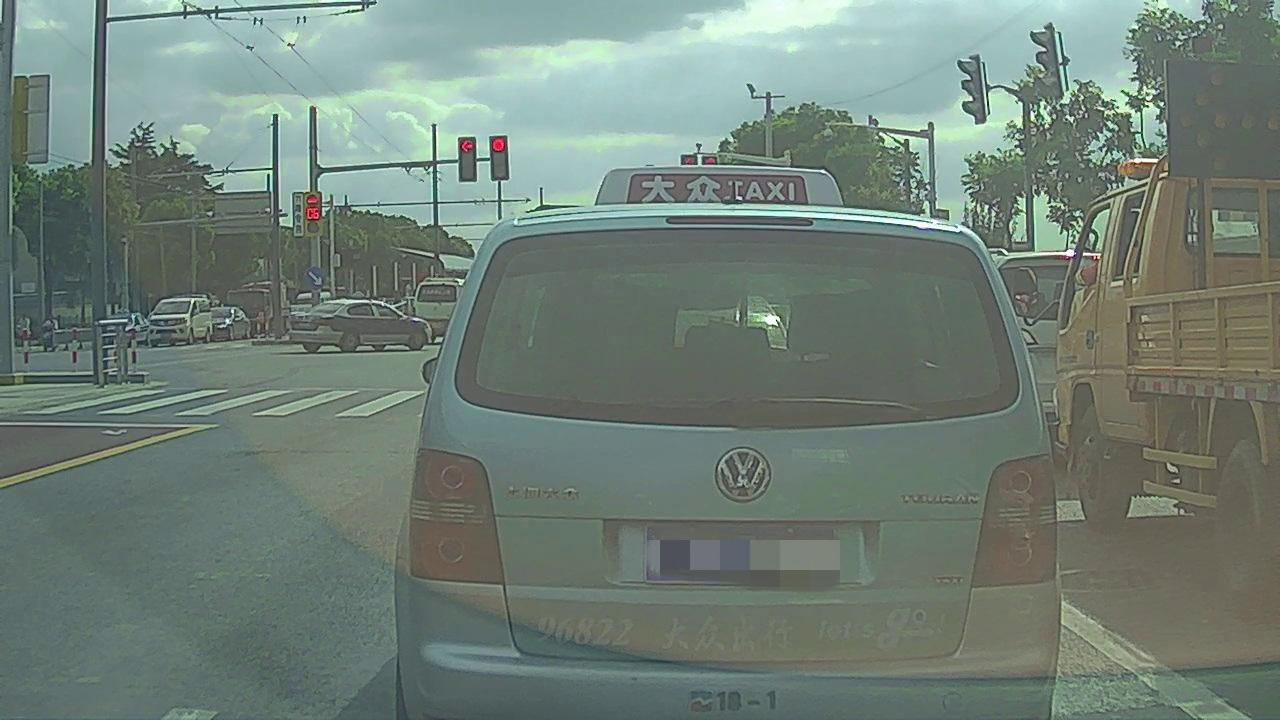traffic_light: (489, 137, 510, 182), (458, 137, 477, 180)
